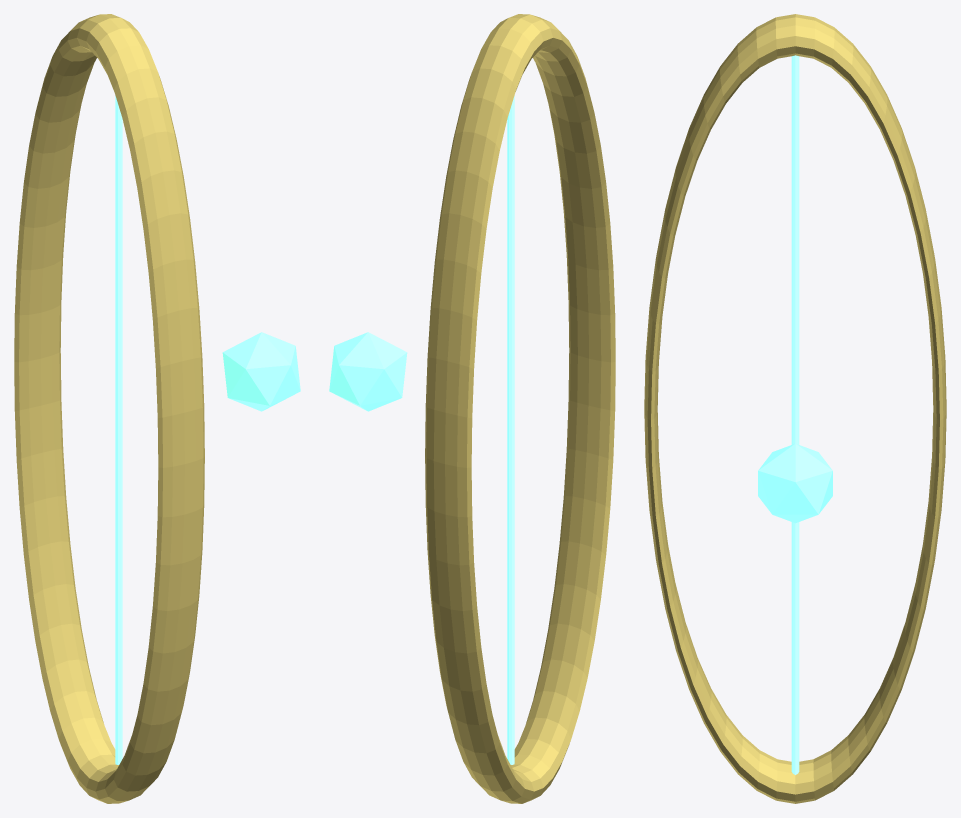
File: celestial_bow.glb
3 views of the same model, side by side, from view 1: azimuth 30°, elevation 25°; view 2: azimuth 150°, elevation 25°; view 3: azimuth 270°, elevation 25° (orthographic).
Parts seen in each view (by area): view 1: Torus, Cylinder, Icosphere; view 2: Torus, Cylinder, Icosphere; view 3: Torus, Cylinder, Icosphere.
Boxes of the visible parts, x1,y1,x2,y2 form: Torus: (14,14,204,803); Cylinder: (115,96,122,764); Icosphere: (222,332,300,411); Torus: (425,14,615,803); Cylinder: (507,96,514,764); Icosphere: (329,332,407,411); Torus: (644,14,946,803); Cylinder: (791,55,799,774); Icosphere: (758,443,832,523).
Bounding box in the file's own units: 0.4406 × 1.57 × 0.5495.
